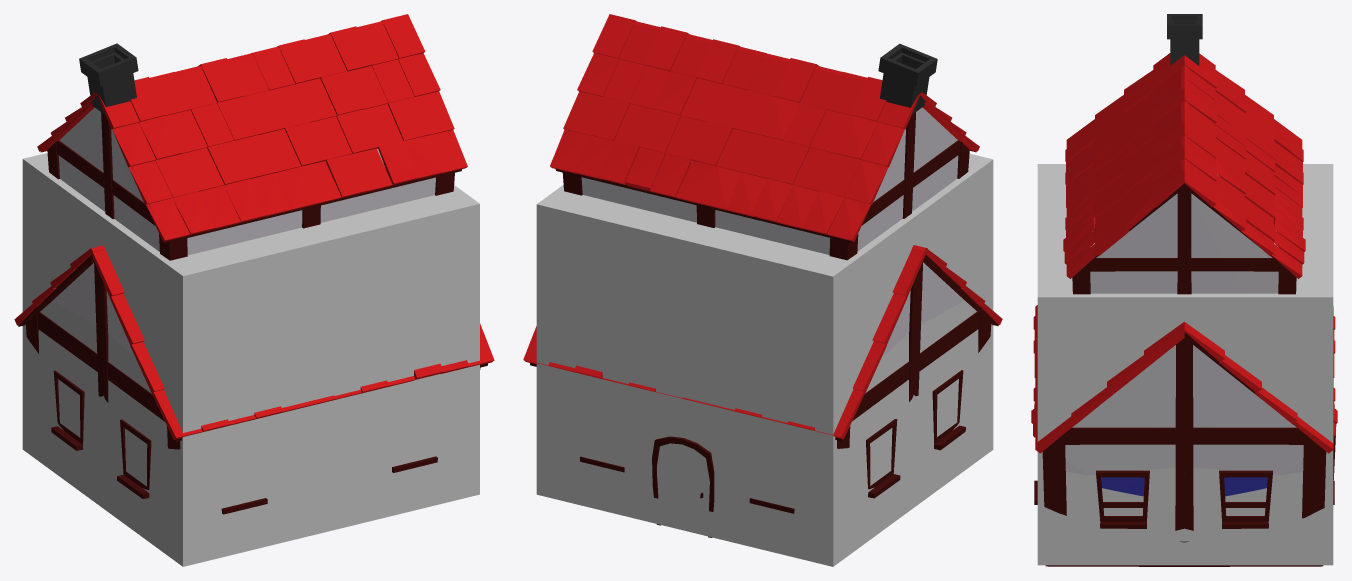
The model's file is City3hit.obj.
The picture shows the model from 3 angles, left to right: view 1: azimuth 30°, elevation 25°; view 2: azimuth 150°, elevation 25°; view 3: azimuth 270°, elevation 25°; orthographic projection. The views are drawn at different scales.
Parts seen in each view (by area): view 1: Cube.001, Cube.009_Cube.019; view 2: Cube.001, Cube.009_Cube.019; view 3: Cube.009_Cube.019, Cube.001.
Boxes of the visible parts, <box> form: Cube.001: <box>22,148,479,566</box>; Cube.009_Cube.019: <box>14,14,494,514</box>; Cube.001: <box>536,154,993,566</box>; Cube.009_Cube.019: <box>523,14,1002,537</box>; Cube.009_Cube.019: <box>1031,14,1337,566</box>; Cube.001: <box>1037,164,1333,565</box>.
Size of the model in its own units: 37.67 by 49.78 by 32.98.
